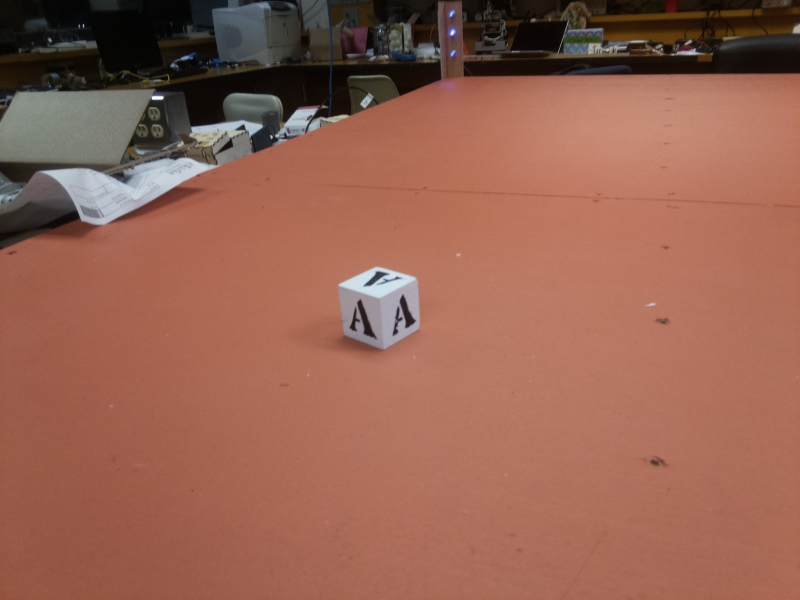blockA: (337, 265, 421, 352)
corner: (434, 1, 467, 76)
